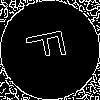F: (25, 25, 76, 64)
